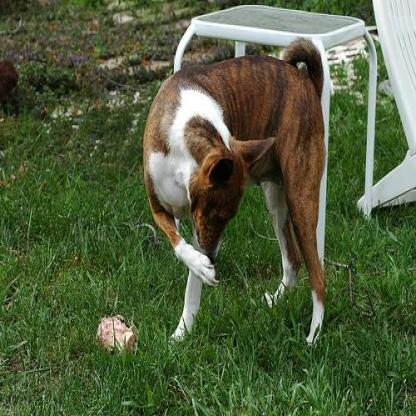basenji: (141, 34, 322, 340)
